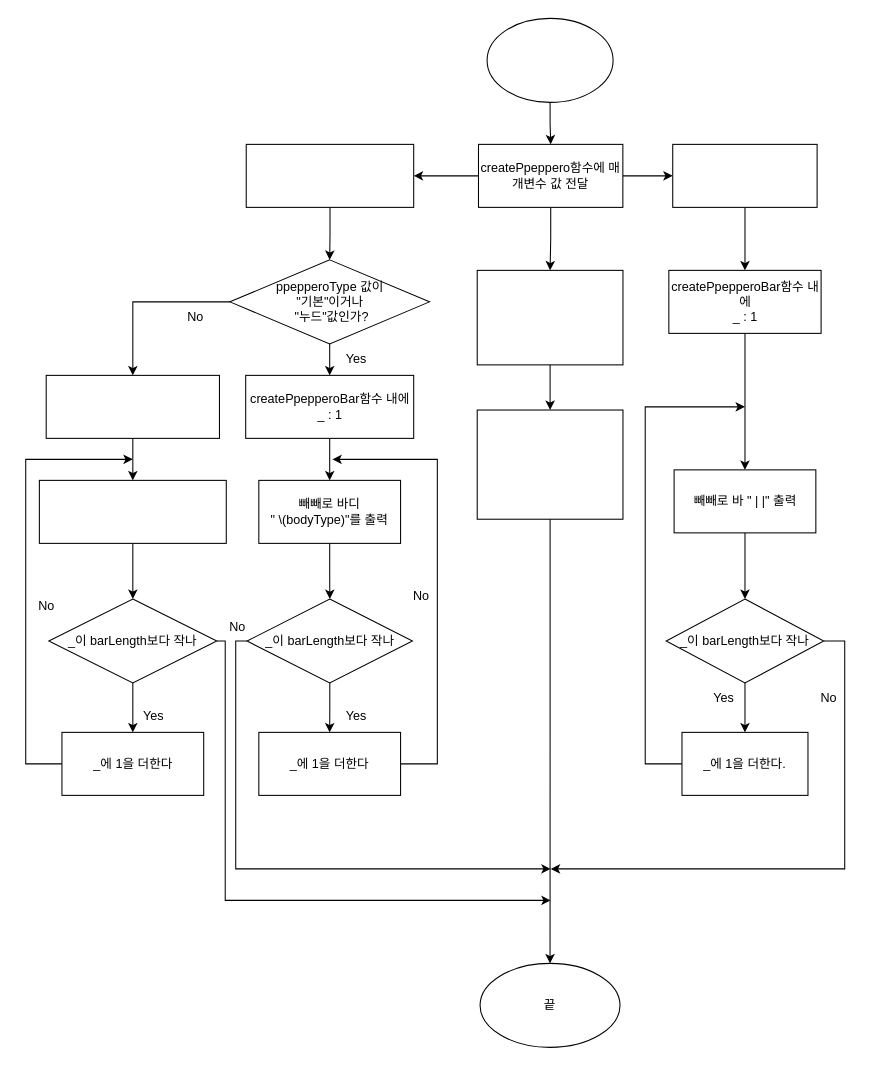
The diagram is 871 pixels wide and 1066 high, and some of its shapes have lost their labels. The shapes that lost their labels are listed below. From the top down, each one's centre as x and y in pixels, then its label:
the point at 549,59: 시작
the point at 329,175: createPpepperoBody함수에 매개변수 값 전달
the point at 744,175: createPpepperoBar함수에 매개변수 값 전달
the point at 549,317: createPpepperoInfo함수에 매개변수 값 받아옴
the point at 132,406: createPpepperoBody함수내에 _ : 1
the point at 549,464: " <정보> 길이 : bodyLength 몸통 : bodyInfo 토핑 : topping 막대길이 : barLength " 출력
the point at 132,511: 빼빼로 바디 "\(topping)\(bodyType)\topping)" 를 출력
